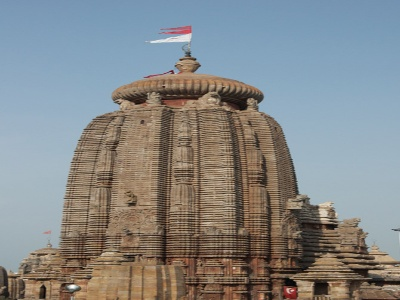amalaka: (92, 66, 287, 108)
gopuram: (64, 102, 308, 264)
